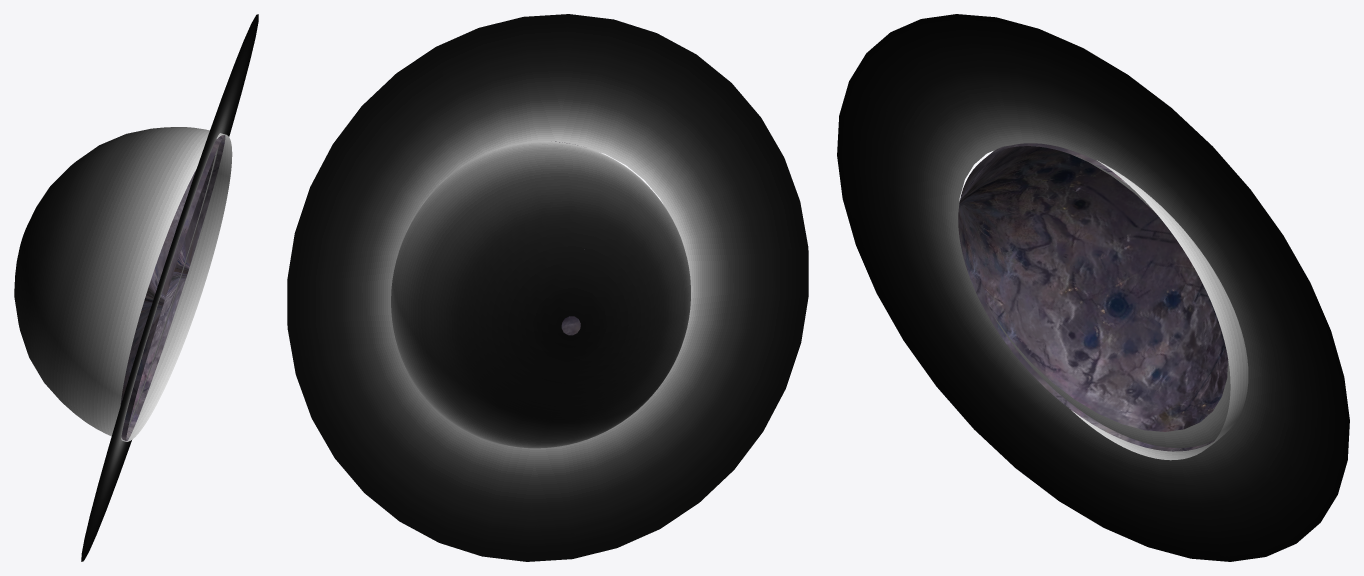
Rendered from env_space_bracca_01_pre.glb.
3 renders of one model, left to right at view 1: azimuth 30°, elevation 25°; view 2: azimuth 150°, elevation 25°; view 3: azimuth 270°, elevation 25°, orthographic. The views are drawn at different scales.
Parts seen in each view (by area): view 1: planet_fresnel_mesh, planet_body_mesh, planet_glow_mesh; view 2: planet_glow_mesh, planet_fresnel_mesh; view 3: planet_glow_mesh, planet_body_mesh, planet_fresnel_mesh.
Boxes of the visible parts, x1,y1,x2,y2 form: planet_fresnel_mesh: (14, 127, 232, 441); planet_body_mesh: (120, 135, 225, 441); planet_glow_mesh: (81, 14, 258, 561); planet_glow_mesh: (287, 14, 808, 561); planet_fresnel_mesh: (391, 141, 690, 448); planet_glow_mesh: (837, 14, 1349, 561); planet_body_mesh: (958, 143, 1228, 451); planet_fresnel_mesh: (992, 150, 1248, 460).
Bounding box in the file's own units: 603 × 866 × 703.
3 materials, 3 textured.
